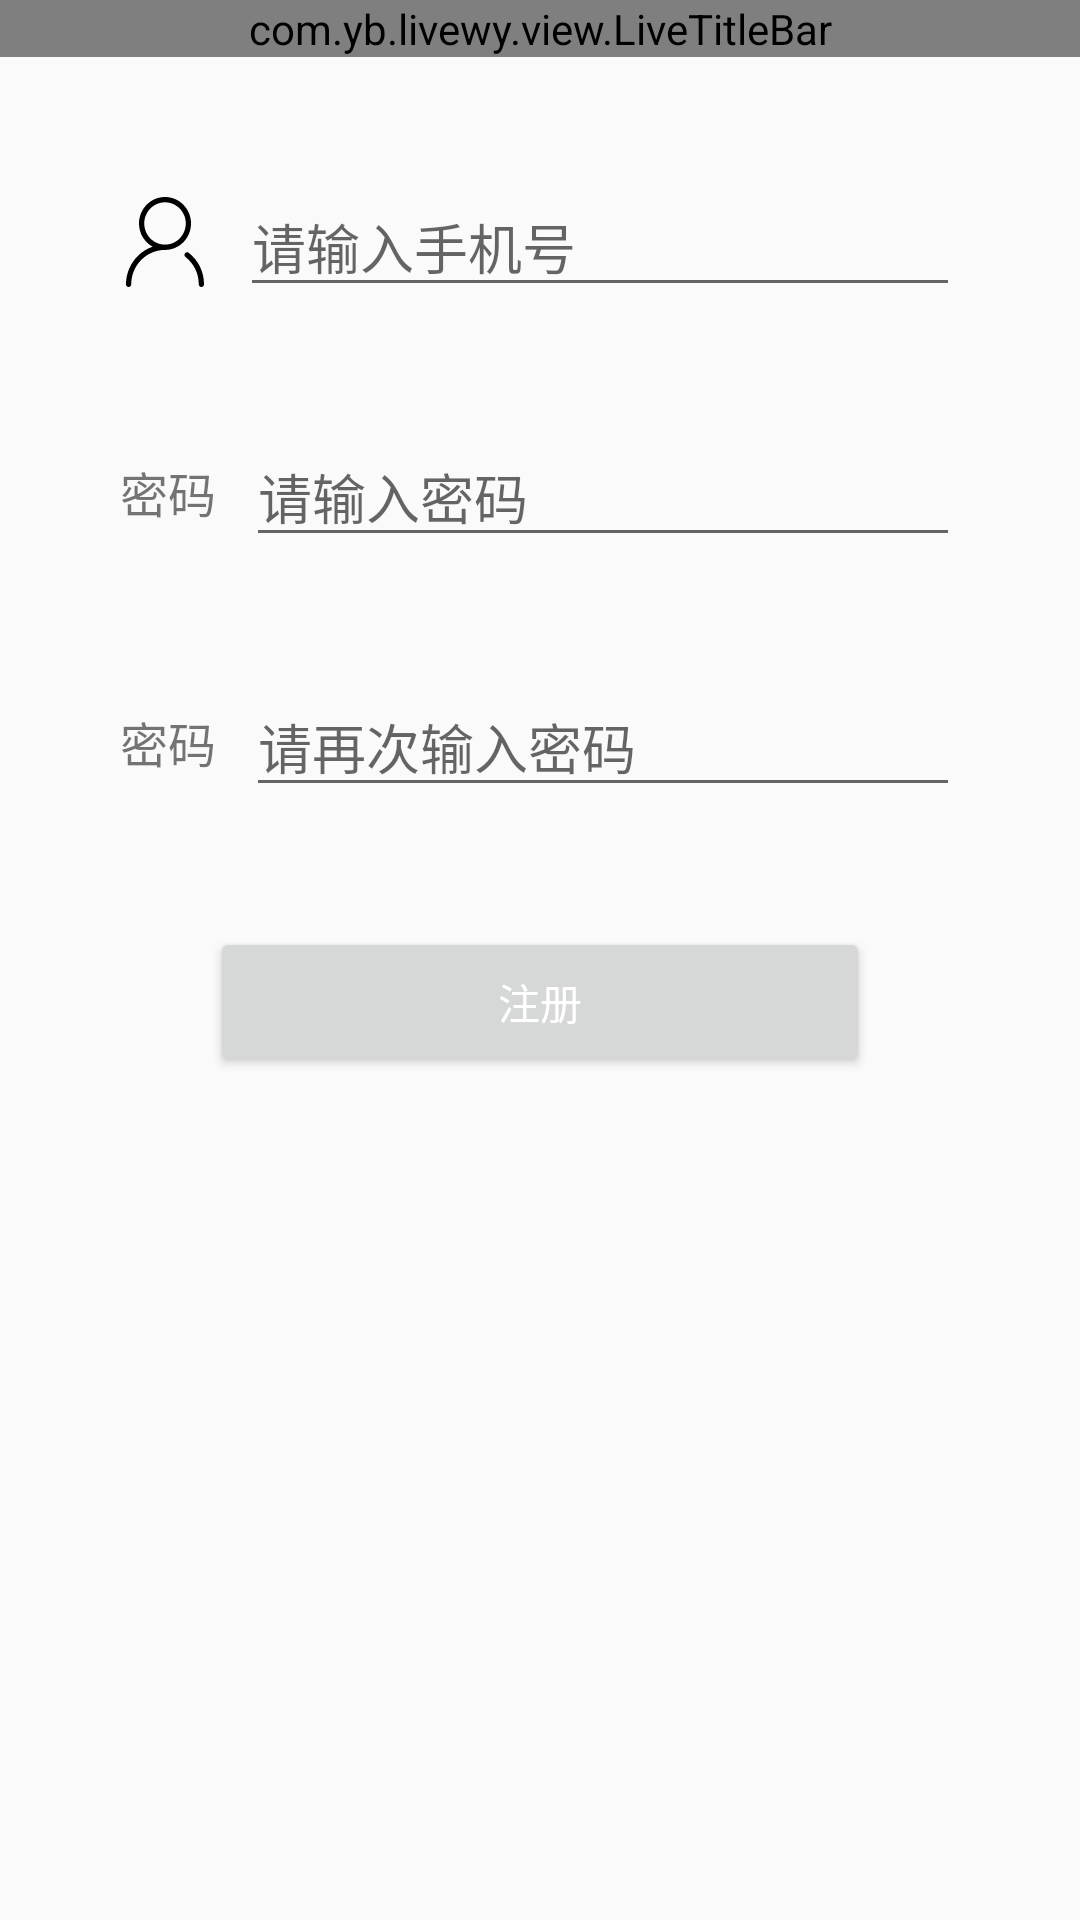

Locate icon controls on the screen. Image size 1080w x 1920h, boxes as box=[x1, y1, x2, y2].
account: box=[126, 197, 204, 287]
